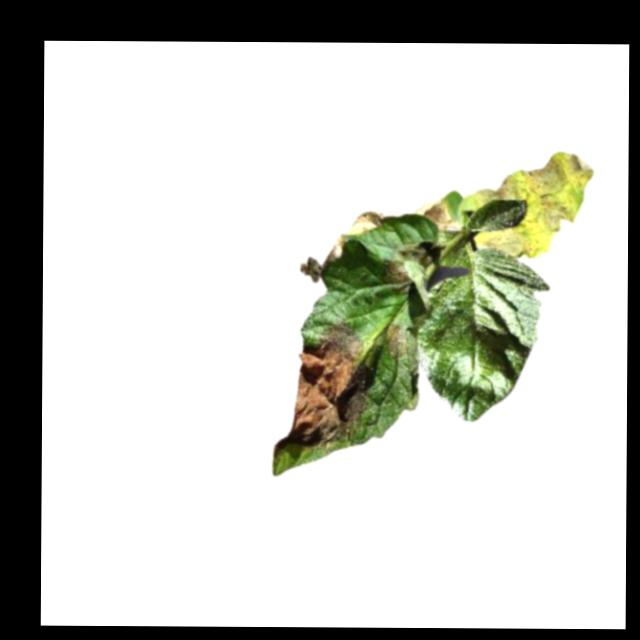Late_blight: (465, 151, 593, 259), (271, 318, 368, 451), (413, 195, 462, 233), (377, 261, 415, 296), (383, 318, 407, 364), (345, 208, 383, 236), (323, 234, 344, 266), (297, 257, 322, 283)
healthy: (417, 247, 549, 422)
